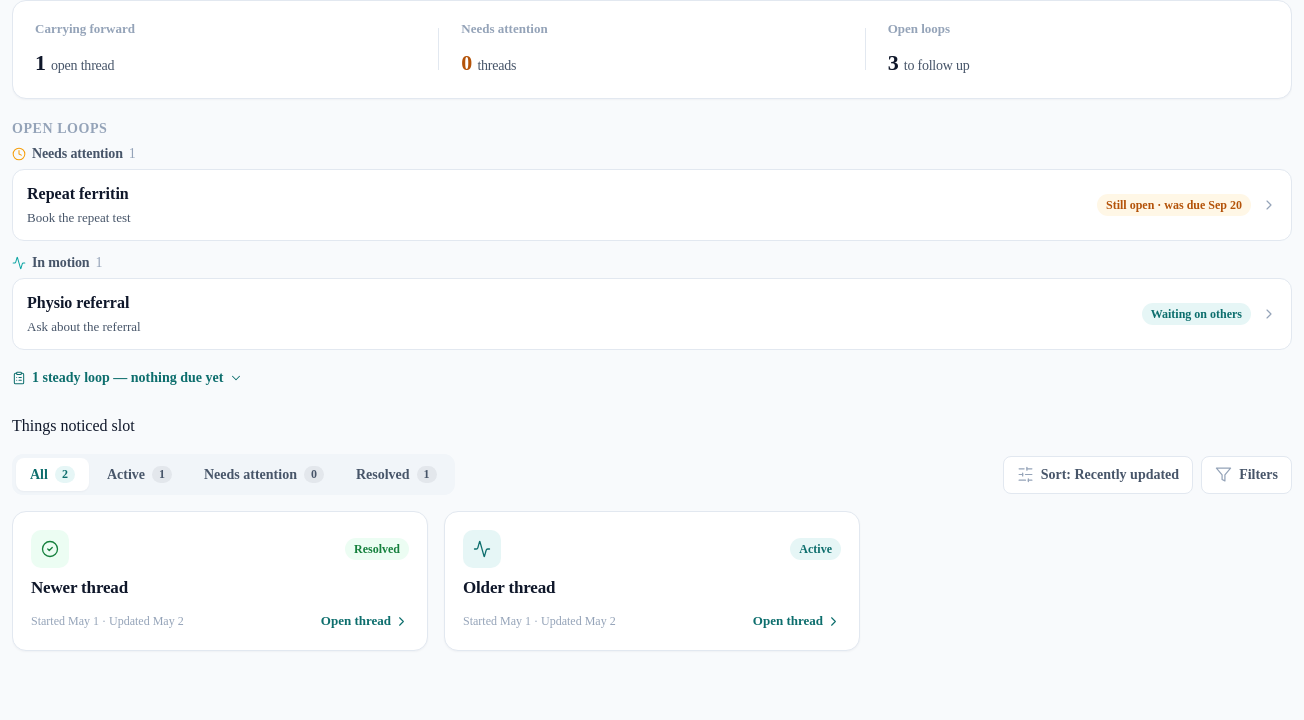
WorkspaceHome › groups open loops into Needs attention, In motion and a folded Steady
This screenshot has width=1304, height=720.
Expected: the headings read "Needs attention1", "In motion1", in this order, [12,146,136,161]; [12,255,102,270]
Expected: the link "Repeat ferritin" reads "Repeat ferritin Book the repeat test Still open · was due Sep 20", [12,169,1292,241]
Click the button "1 steady loop — nothing due yet" at {"x": 128, "y": 378}, box [12,364,243,392]
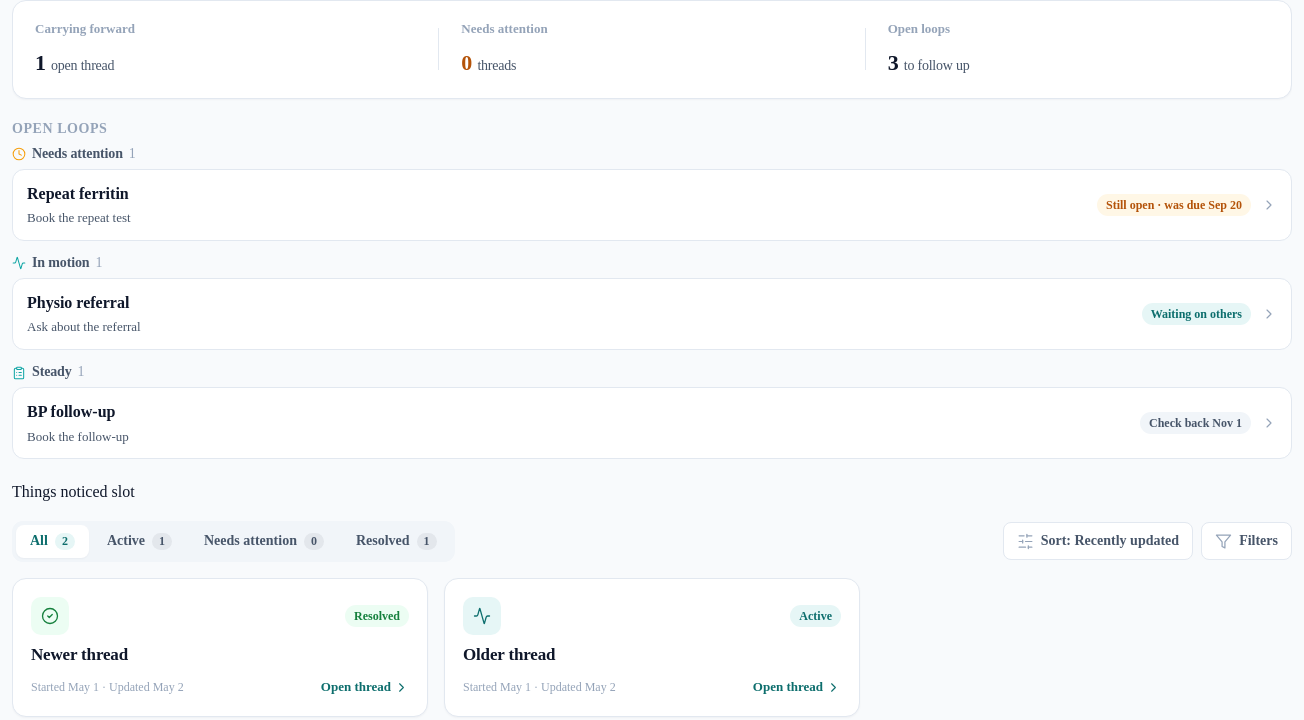
Expected: the text "Things noticed slot" is shown, [12,483,135,500]
Result: the text "BP follow-up" is shown at [27,403,116,420]
